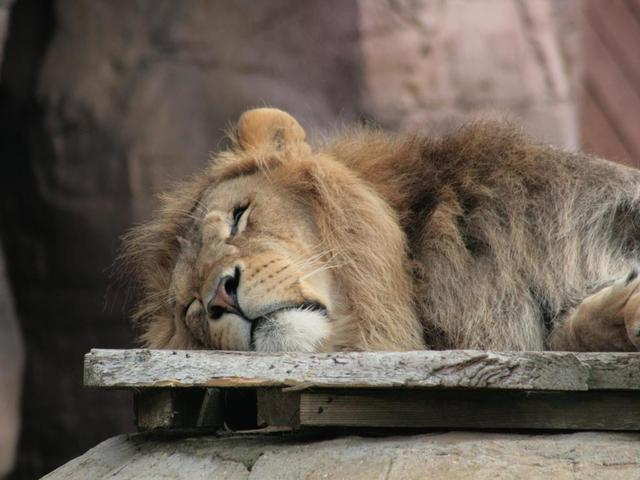lion: (73, 52, 640, 368)
